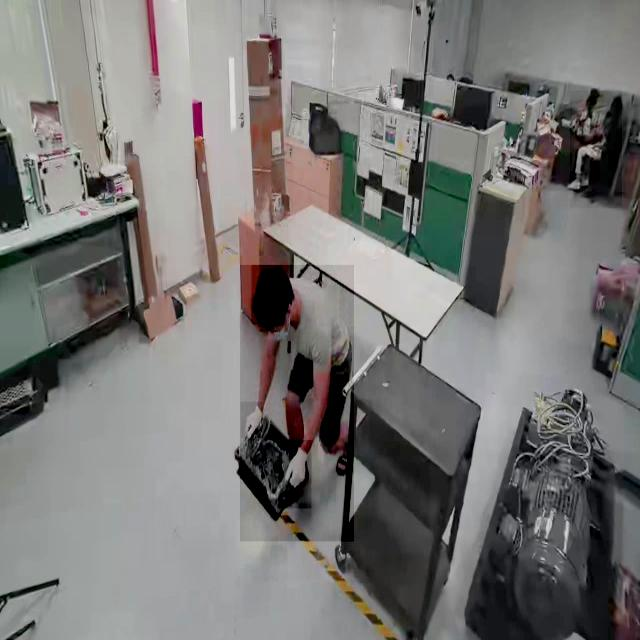hand_glove: (278, 440, 312, 509), (241, 402, 263, 439)
head_nohelmet: (251, 265, 283, 325), (589, 87, 599, 97)
person: (240, 265, 354, 542), (570, 91, 622, 209)
